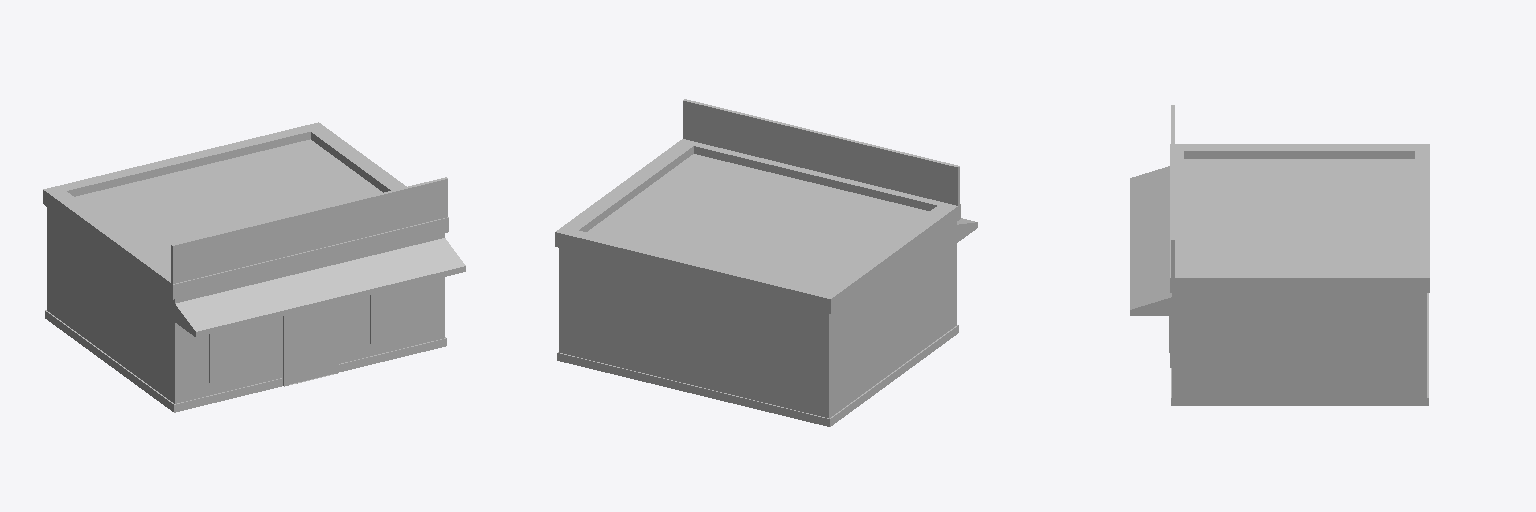
File: Building_Gift Shop.obj
3 views of the same model, side by side, from view 1: azimuth 30°, elevation 25°; view 2: azimuth 150°, elevation 25°; view 3: azimuth 270°, elevation 25° (orthographic).
Visible parts, largest first — view 1: Building_Gift_Shop; view 2: Building_Gift_Shop; view 3: Building_Gift_Shop.
Boxes of the visible parts, <box> form: Building_Gift_Shop: <box>43,122,465,412</box>; Building_Gift_Shop: <box>555,99,977,426</box>; Building_Gift_Shop: <box>1130,105,1429,405</box>.
Bounding box in the file's own units: 442 × 256 × 416.